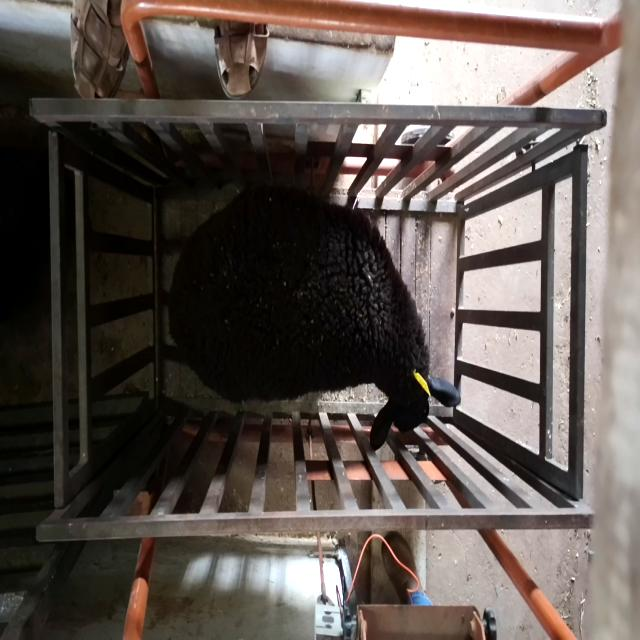sheep: (167, 183, 461, 452)
